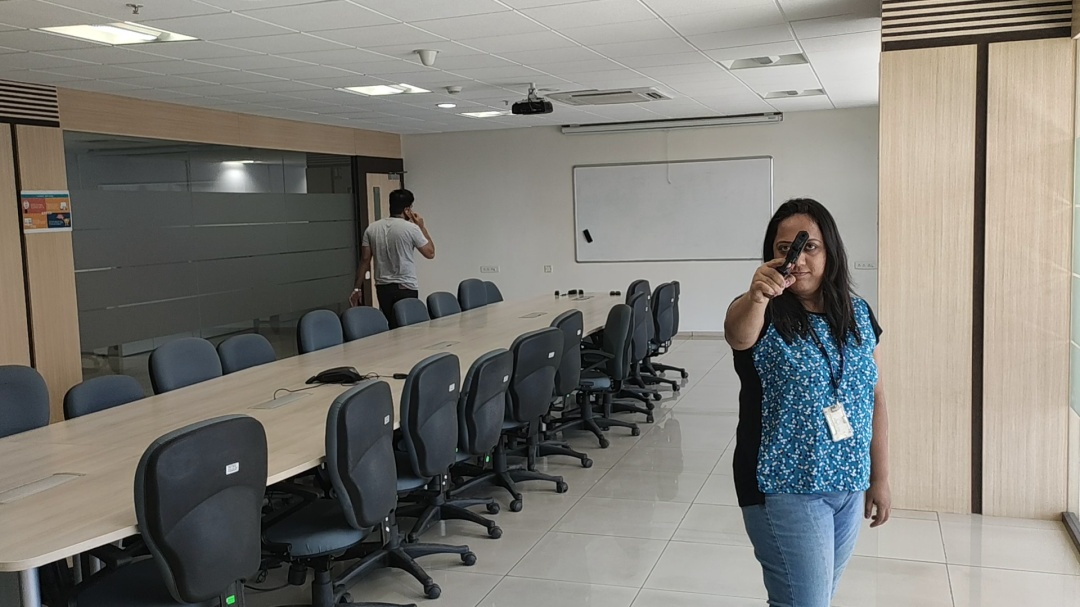gun: (779, 230, 810, 273)
